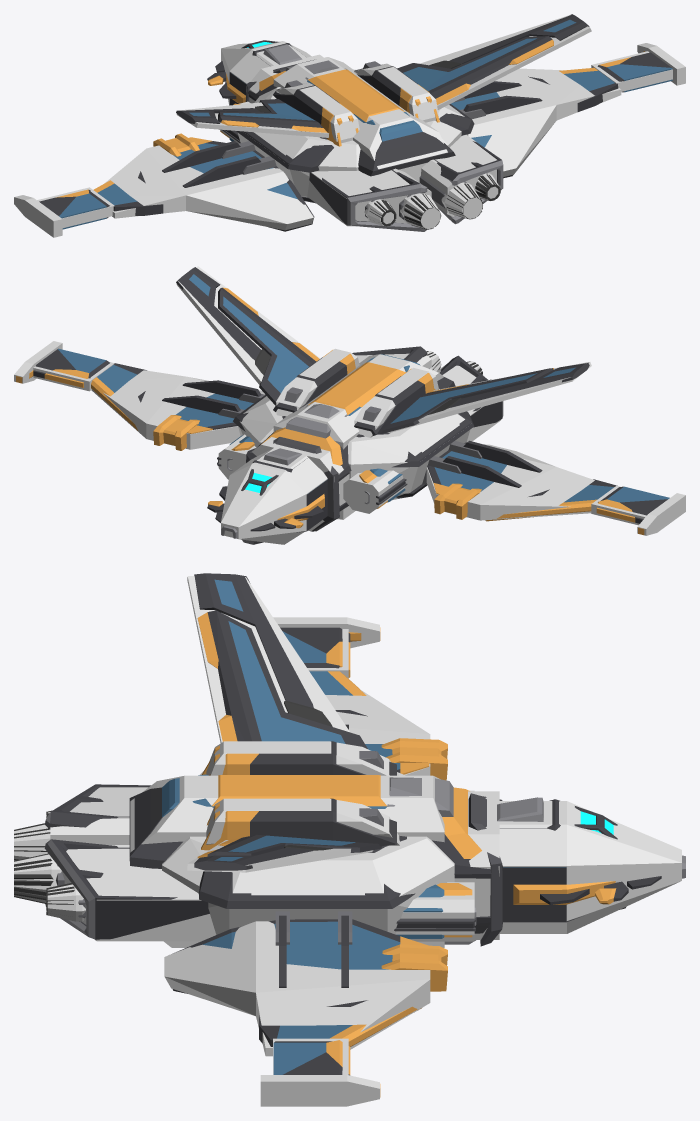
Rendered from SM_Ship_Fighter_Heavy_03.fbx.
3 views of the same model, one above another, from view 1: azimuth 30°, elevation 25°; view 2: azimuth 150°, elevation 25°; view 3: azimuth 270°, elevation 25° (orthographic). The views are drawn at different scales.
Visible parts, largest first — view 1: SM_Ship_Fighter_Heavy_03_ConvexHulls, SM_Ship_Fighter_Heavy_03_LOD0; view 2: SM_Ship_Fighter_Heavy_03_LOD0, SM_Ship_Fighter_Heavy_03_ConvexHulls; view 3: SM_Ship_Fighter_Heavy_03_ConvexHulls, SM_Ship_Fighter_Heavy_03_LOD0.
Boxes of the visible parts, bbox=[...] form: SM_Ship_Fighter_Heavy_03_ConvexHulls: bbox=[14, 15, 685, 237]; SM_Ship_Fighter_Heavy_03_LOD0: bbox=[39, 14, 672, 231]; SM_Ship_Fighter_Heavy_03_LOD0: bbox=[16, 267, 669, 544]; SM_Ship_Fighter_Heavy_03_ConvexHulls: bbox=[14, 266, 685, 544]; SM_Ship_Fighter_Heavy_03_ConvexHulls: bbox=[14, 576, 681, 1106]; SM_Ship_Fighter_Heavy_03_LOD0: bbox=[14, 573, 685, 1097].
Bounding box in the file's own units: 1378 × 2252 × 493.
1 material, 1 textured.
